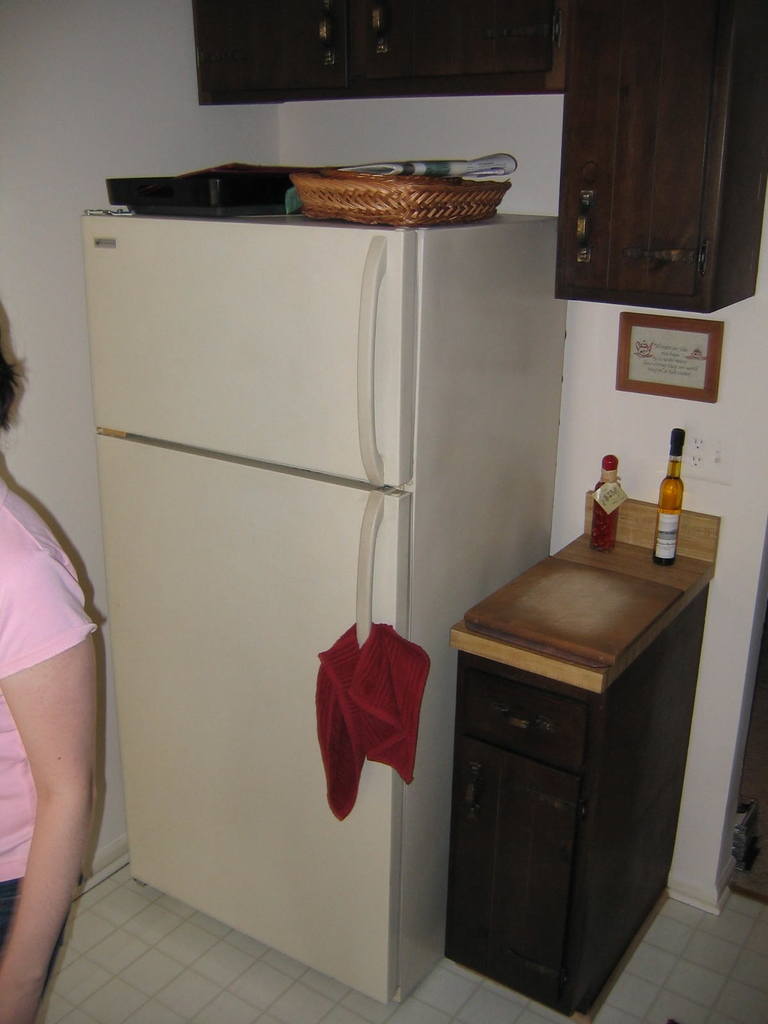cabinet door: (461, 761, 566, 961), (632, 80, 718, 309), (352, 1, 553, 84), (566, 51, 615, 294), (465, 686, 589, 769), (207, 11, 337, 87)
handle: (349, 245, 393, 479), (349, 506, 383, 697), (631, 245, 688, 283), (365, 13, 394, 74), (575, 188, 594, 259), (316, 27, 337, 84), (464, 767, 483, 829), (508, 713, 530, 737)
refrigerator door: (109, 424, 409, 983), (85, 223, 413, 469)
